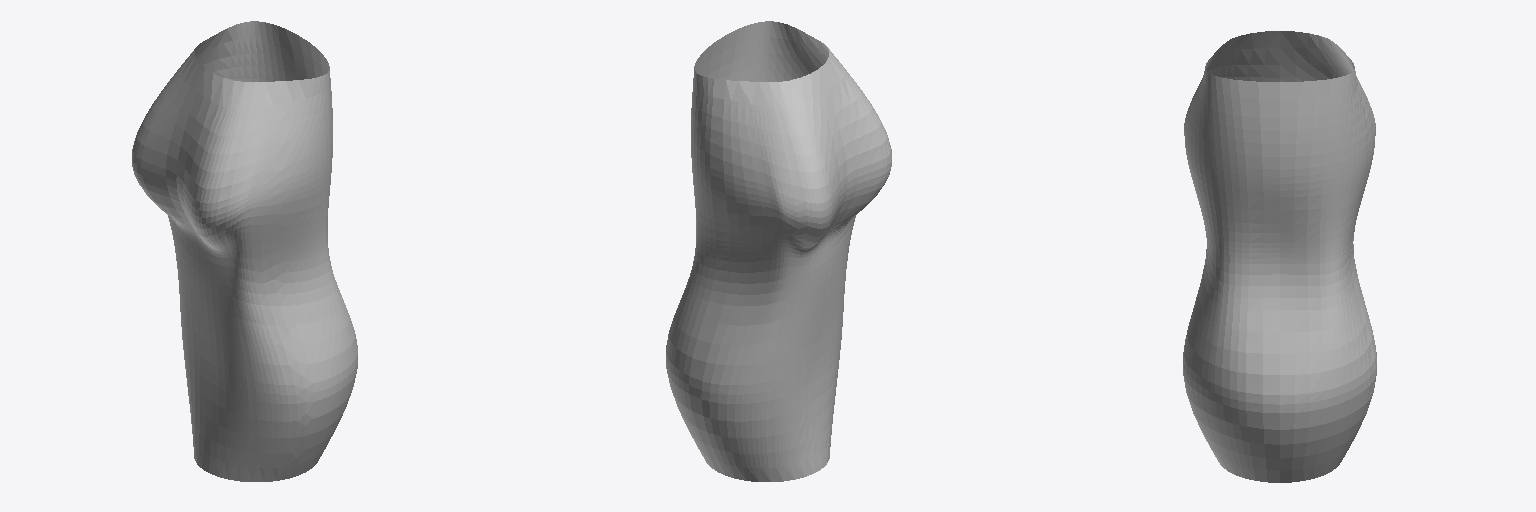
Rendered from uploads_files_2129900_Sexy+vase+v3.obj.
The picture shows the model from 3 angles: view 1: azimuth 30°, elevation 25°; view 2: azimuth 150°, elevation 25°; view 3: azimuth 270°, elevation 25°; orthographic projection.
Visible parts, largest first — view 1: Body1; view 2: Body1; view 3: Body1.
Part boxes in pixels (x1,y1,x2,y2): Body1: (132,21,357,481); Body1: (666,21,891,481); Body1: (1183,31,1376,482).
Size of the model in its own units: 77.68 by 165 by 72.57.